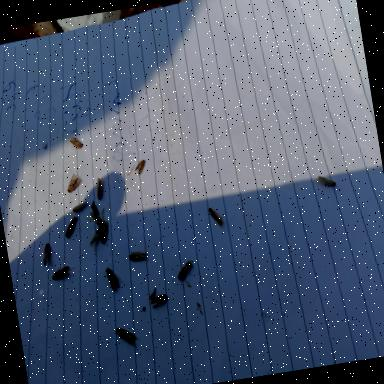pbw: (84, 206, 108, 230), (174, 257, 195, 281), (114, 322, 135, 346), (62, 214, 82, 238), (86, 227, 104, 253), (50, 264, 77, 280), (64, 172, 83, 194), (106, 266, 122, 292), (314, 170, 336, 188), (208, 204, 224, 228), (97, 218, 111, 243), (40, 241, 53, 266), (94, 173, 106, 199), (150, 290, 169, 306), (128, 248, 148, 262), (68, 134, 83, 149), (132, 158, 146, 174), (71, 200, 89, 212)
